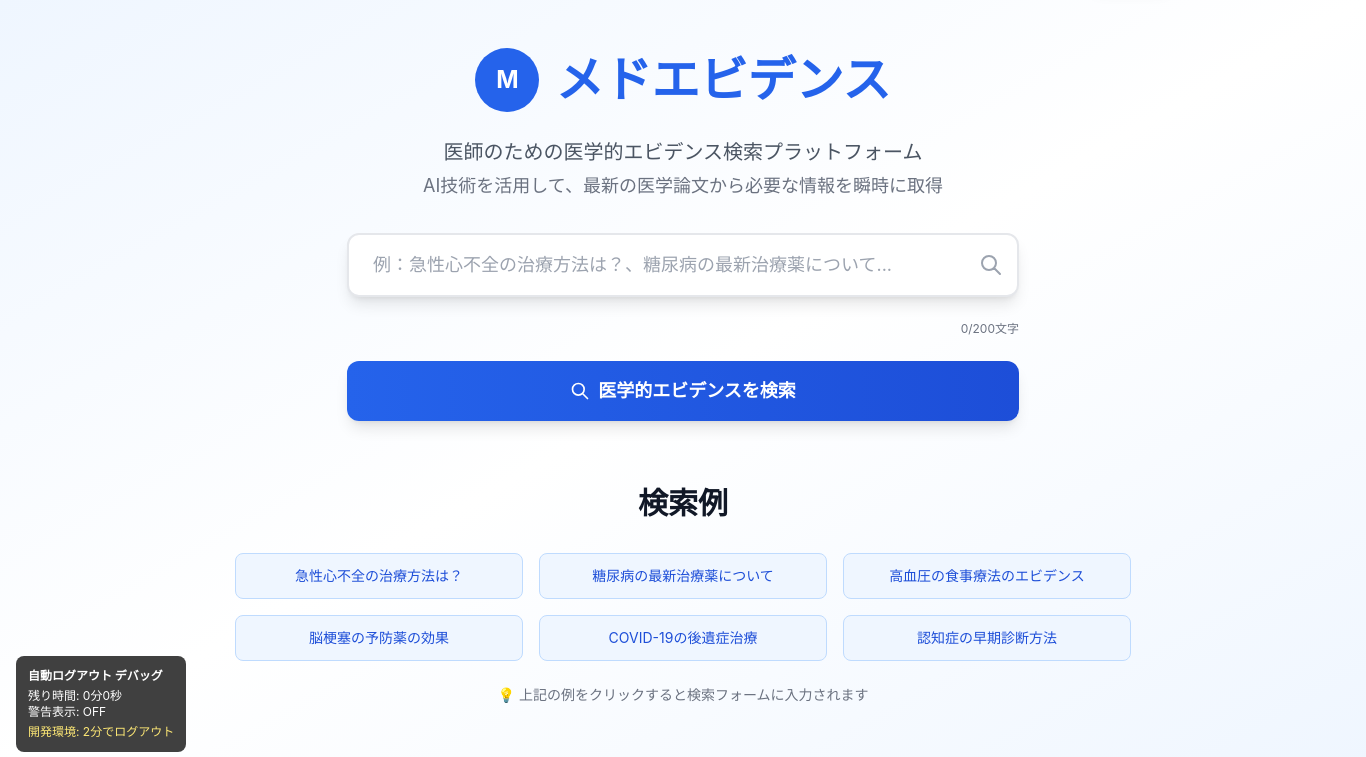
Test: SearchForm › 検索クエリが空の場合、エラーメッセージが表示される
(page scrolled)
# 検索ボタンをクリック
Click the button "医学的エビデンスを検索" at coordinates (683, 391), box [347,361,1019,421]
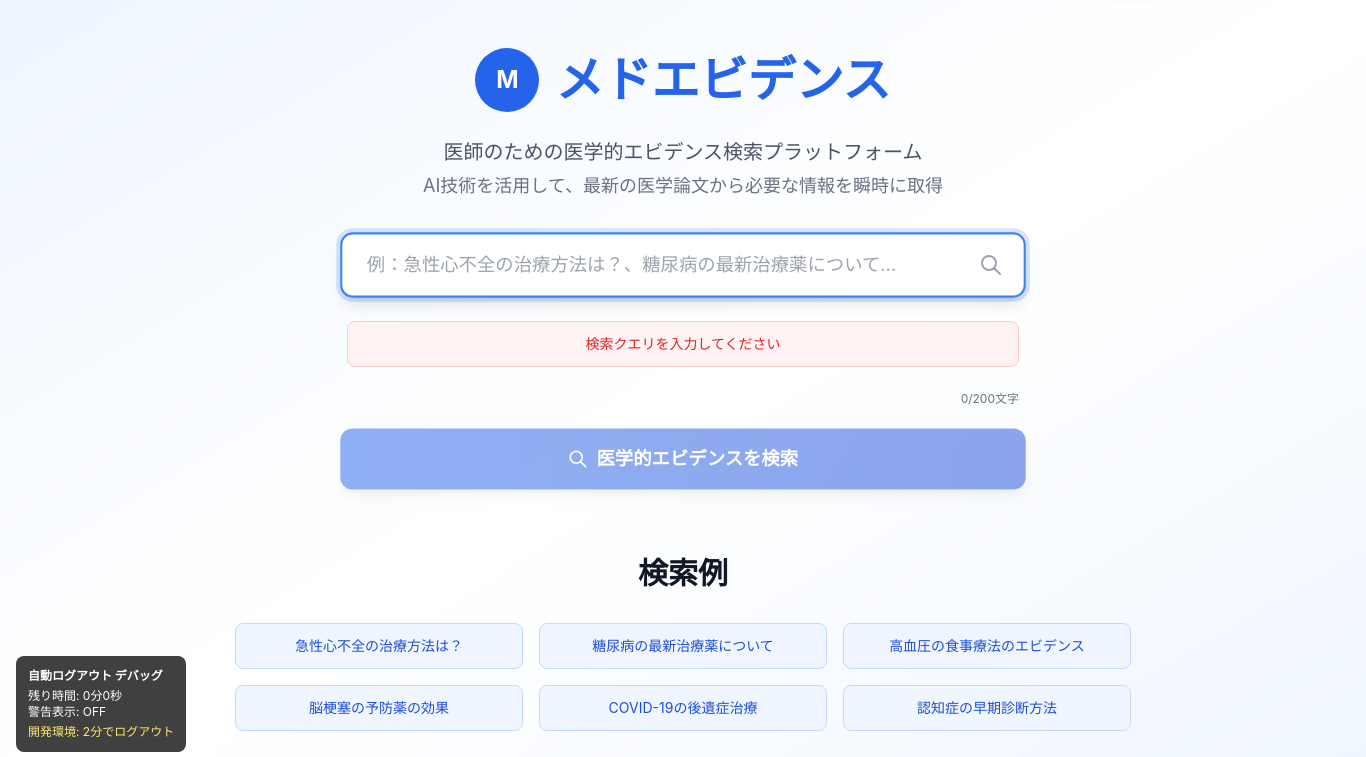
Result: the text "検索クエリを入力してください" is shown at [347,321,1019,367]
